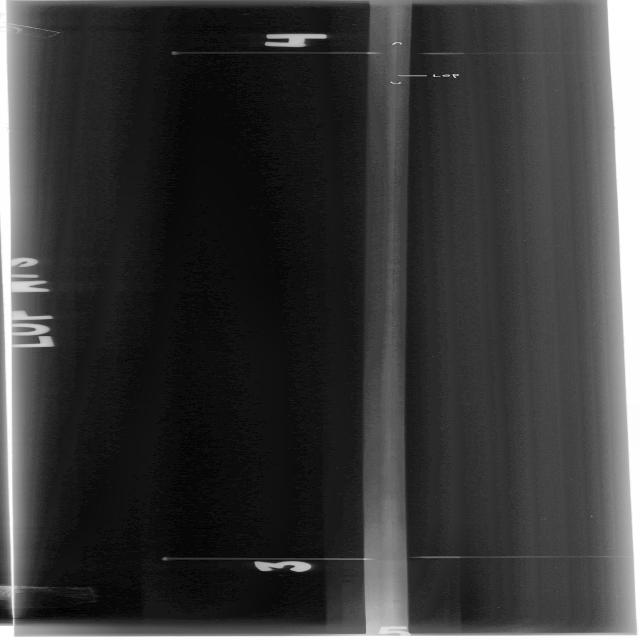LOP: (393, 44, 404, 75)
porosity: (393, 76, 399, 82)
